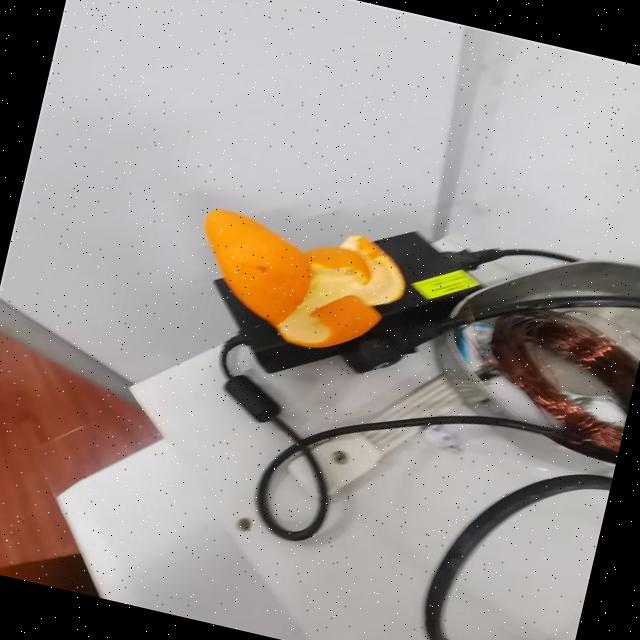orange-peel: (180, 196, 416, 366)
